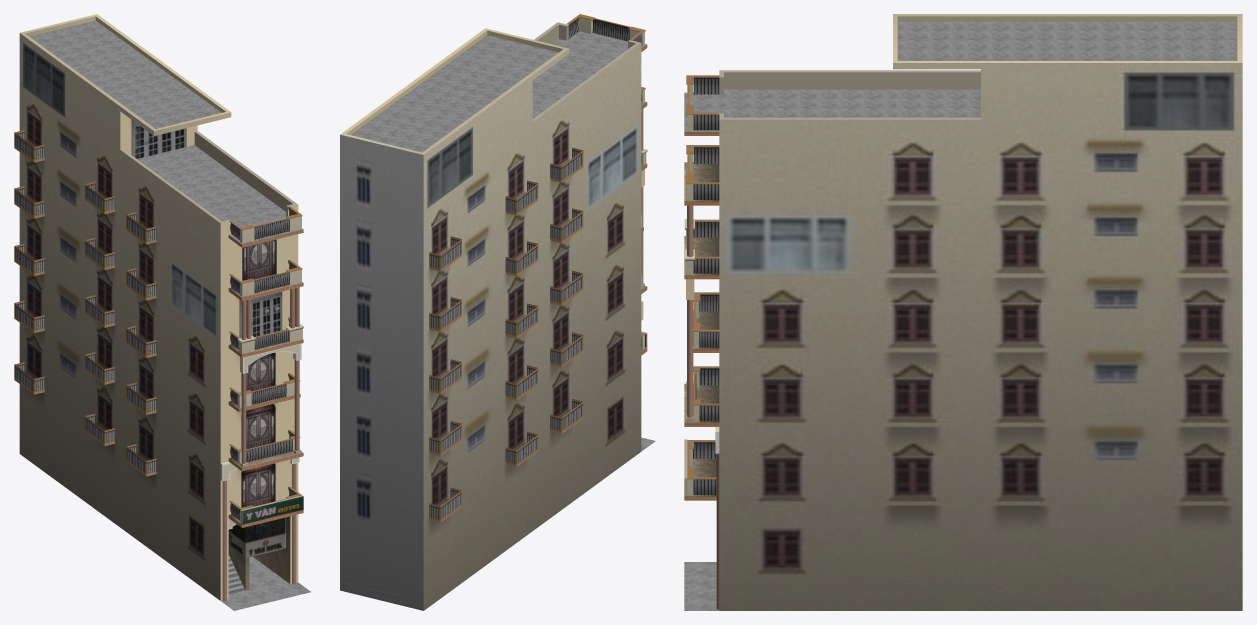
3 renders of one model, left to right at view 1: azimuth 30°, elevation 25°; view 2: azimuth 150°, elevation 25°; view 3: azimuth 270°, elevation 25°, orthographic. The views are drawn at different scales.
Visible parts, largest first — view 1: 5cd8f10211e1081434dec8d9.001; view 2: 5cd8f10211e1081434dec8d9.001; view 3: 5cd8f10211e1081434dec8d9.001.
Boxes of the visible parts, x1,y1,x2,y2 form: 5cd8f10211e1081434dec8d9.001: (14,14,310,610); 5cd8f10211e1081434dec8d9.001: (340,14,655,610); 5cd8f10211e1081434dec8d9.001: (684,14,1242,610).
Size of the model in its own units: 5.67 by 26 by 24.
1 material, 1 textured.
